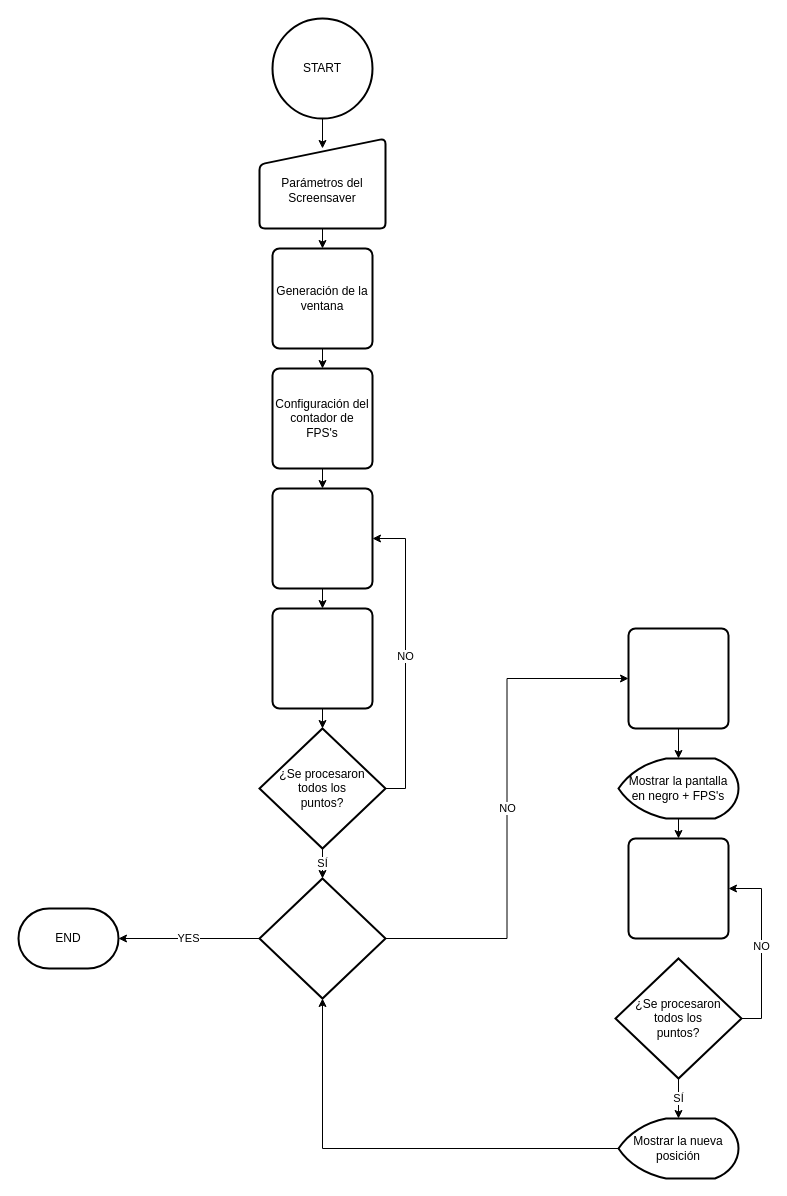
This 787x1196 diagram has some shape labels left out. The centre of each missing label's shape, as x and y in pixels:
"Configurar el color del punto" goes at (322,658).
"Cálculo de FPS's" goes at (678,678).
"Cálculo de la nueva posición del punto" goes at (678,888).
"Cálculo de la posición inicial del punto." goes at (322,538).
"¿Se cerró la ventana?" goes at (322,938).
